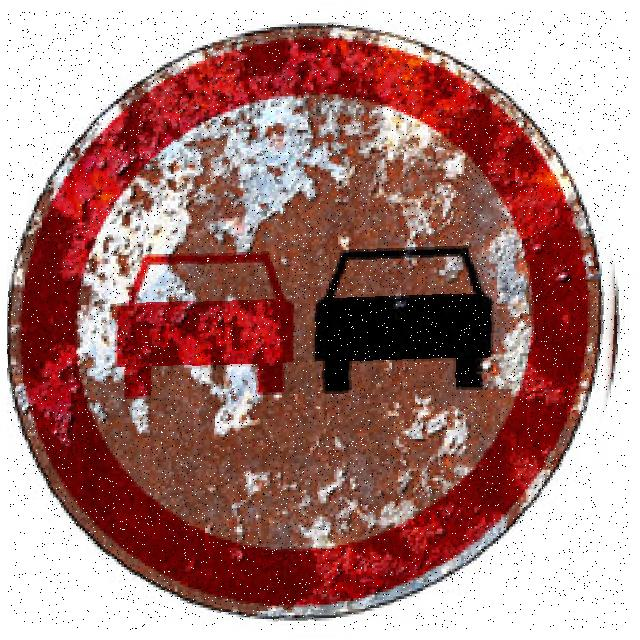no overtaking: (7, 11, 630, 630)
